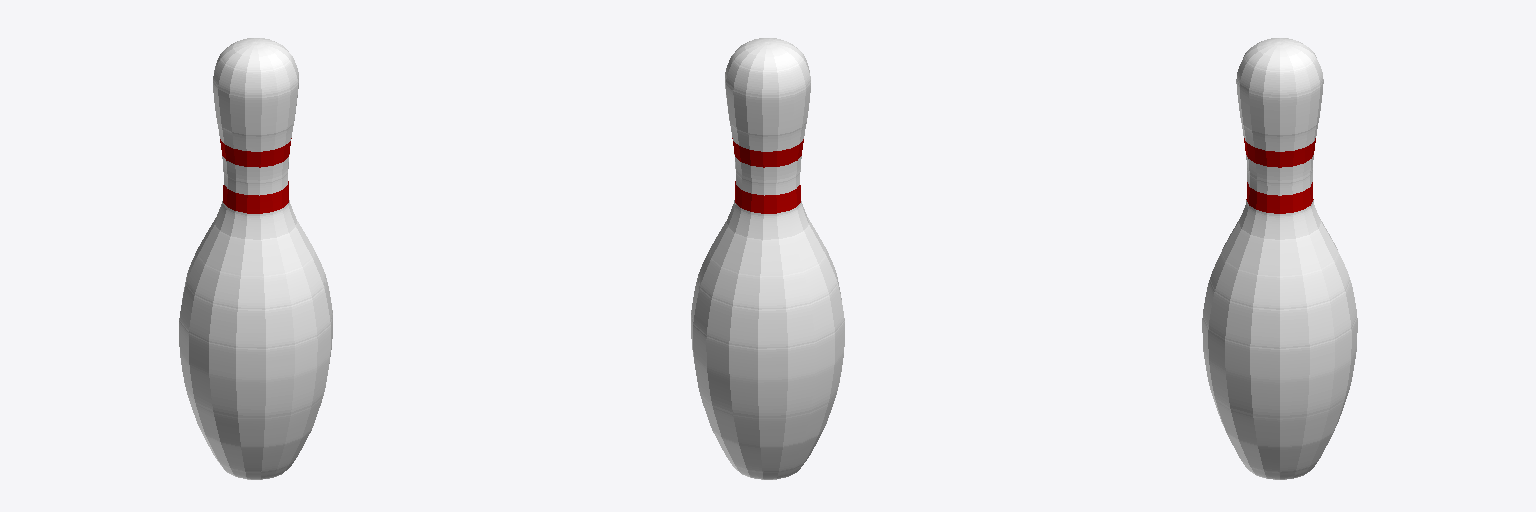
The model's file is bolo.obj.
The picture shows the model from 3 angles: view 1: azimuth 30°, elevation 25°; view 2: azimuth 150°, elevation 25°; view 3: azimuth 270°, elevation 25°; orthographic projection.
Visible parts, largest first — view 1: BezierCurve; view 2: BezierCurve; view 3: BezierCurve.
Boxes of the visible parts, x1=… form: BezierCurve: x1=179, y1=38, x2=332, y2=479; BezierCurve: x1=691, y1=38, x2=844, y2=479; BezierCurve: x1=1202, y1=38, x2=1357, y2=479.
Size of the model in its own units: 1.54 by 4.65 by 1.54.